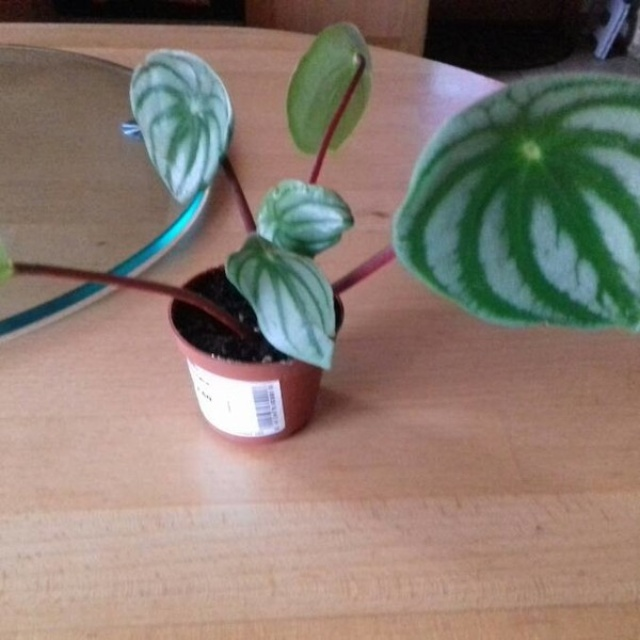obstacle: (127, 45, 612, 438)
